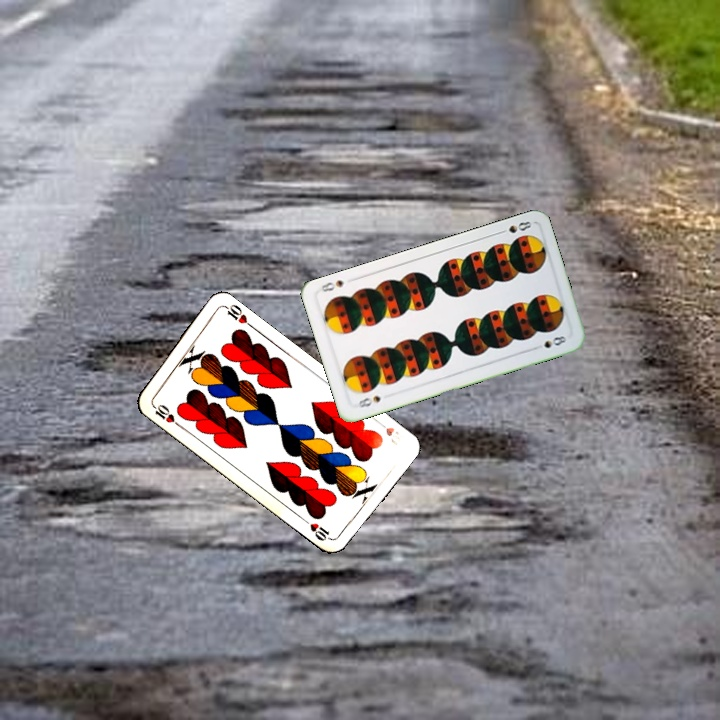H10: (148, 400, 182, 429), (372, 416, 403, 444)
S8: (494, 217, 534, 237), (354, 391, 383, 410)
